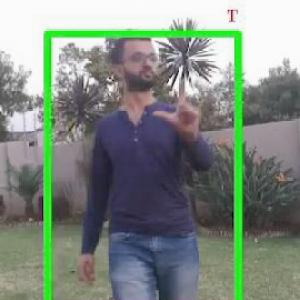land_hand: (150, 77, 204, 133)
